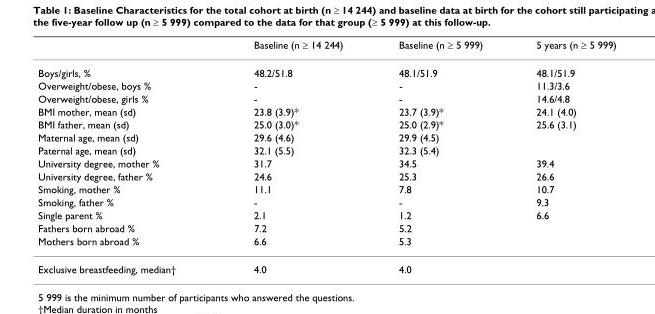table: (37, 37, 615, 274)
table column: (37, 37, 214, 274), (214, 37, 370, 274), (370, 37, 508, 274), (508, 37, 615, 274)
table column header: (37, 37, 615, 58)
table row: (37, 37, 615, 58), (37, 58, 615, 78), (37, 234, 615, 254), (37, 254, 615, 274), (37, 78, 615, 91), (37, 91, 615, 104), (37, 104, 615, 117), (37, 117, 615, 130), (37, 130, 615, 143), (37, 143, 615, 156), (37, 156, 615, 169), (37, 169, 615, 182), (37, 182, 615, 195), (37, 195, 615, 208), (37, 208, 615, 221), (37, 221, 615, 234)
